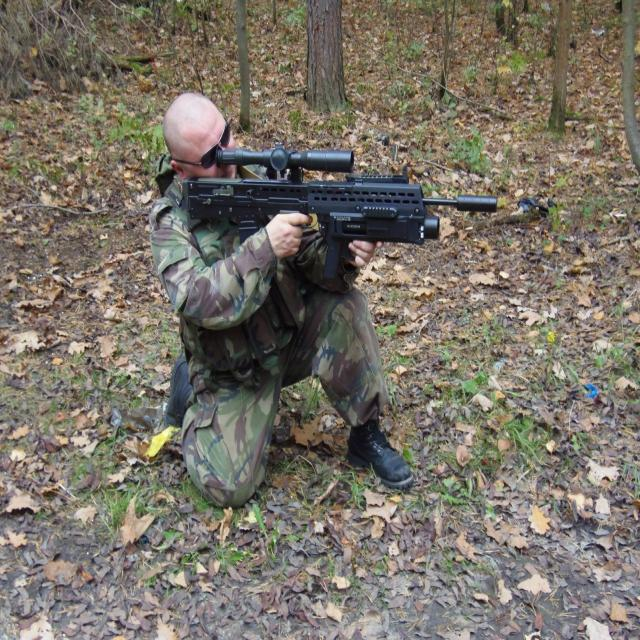firearm: (190, 148, 501, 276)
